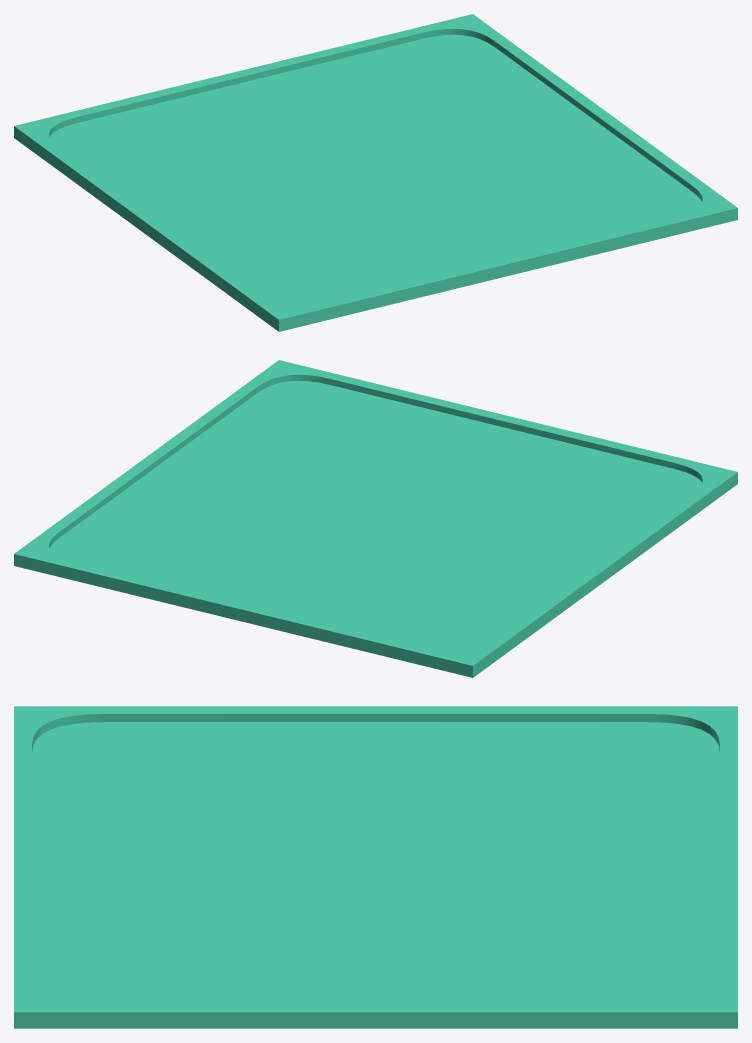
The model's file is Floor_4x4m_B.FBX.
3 views of the same model, one above another, from view 1: azimuth 30°, elevation 25°; view 2: azimuth 150°, elevation 25°; view 3: azimuth 270°, elevation 25° (orthographic). The views are drawn at different scales.
Parts seen in each view (by area): view 1: Floor_4x4m_B; view 2: Floor_4x4m_B; view 3: Floor_4x4m_B.
Boxes of the visible parts, left/top/right/bottom form: Floor_4x4m_B: left=14, top=14, right=737, bottom=331; Floor_4x4m_B: left=14, top=360, right=737, bottom=677; Floor_4x4m_B: left=14, top=706, right=737, bottom=1028.
Size of the model in its own units: 400 by 10 by 400.
